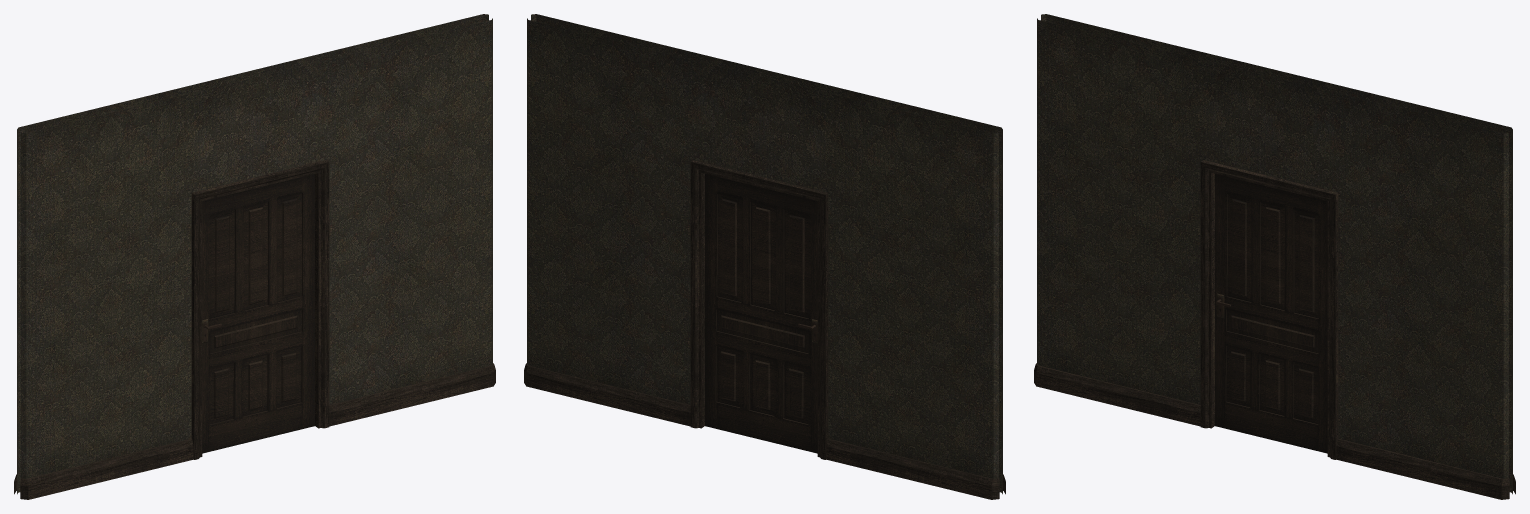
Rendered from doorway_2.glb.
The picture shows the model from 3 angles, left to right: view 1: azimuth 30°, elevation 25°; view 2: azimuth 150°, elevation 25°; view 3: azimuth 330°, elevation 25°; orthographic projection.
Visible parts, largest first — view 1: doorway_2, door_2; view 2: doorway_2, door_2; view 3: doorway_2, door_2.
Boxes of the visible parts, x1,y1,x2,y2 form: doorway_2: (14, 14, 495, 499); door_2: (202, 174, 314, 453); doorway_2: (524, 14, 1005, 499); door_2: (705, 174, 817, 453); doorway_2: (1034, 14, 1515, 499); door_2: (1215, 174, 1327, 453).
Bounding box in the file's own units: 4.09 × 3 × 0.2.
4 materials, 4 textured.
